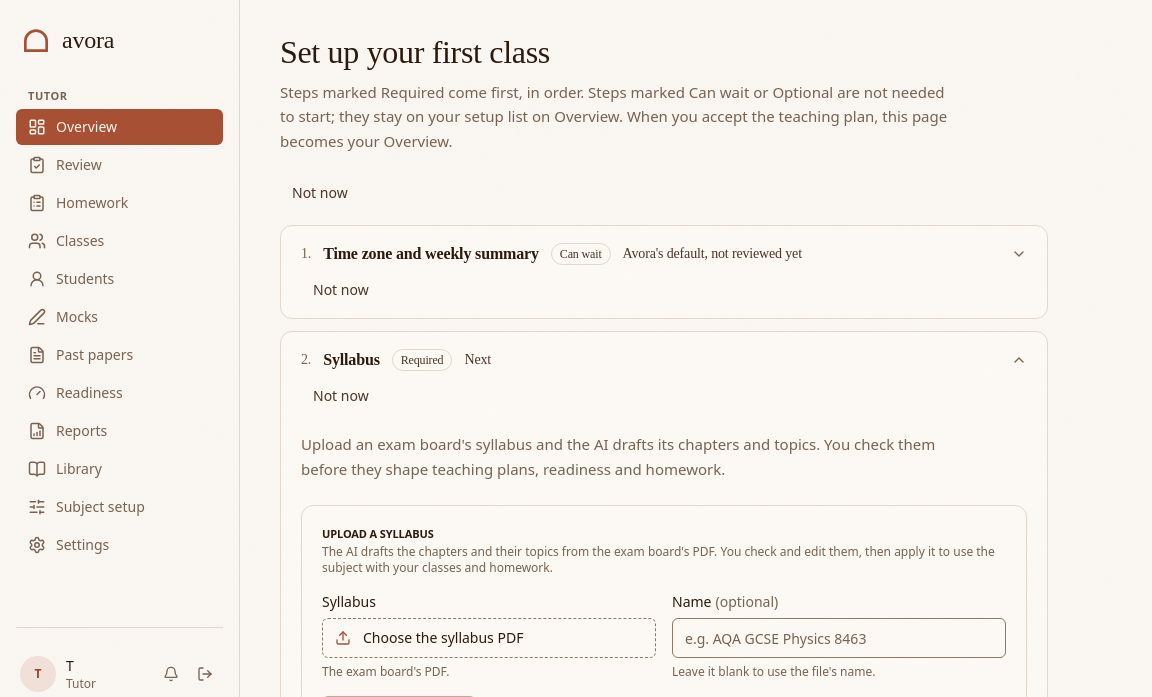
Test case: skipping a step moves the guide on to the next one
Click the button with aria-label "Not now: Syllabus": (341, 396) [301,380,381,412]
(page scrolled)
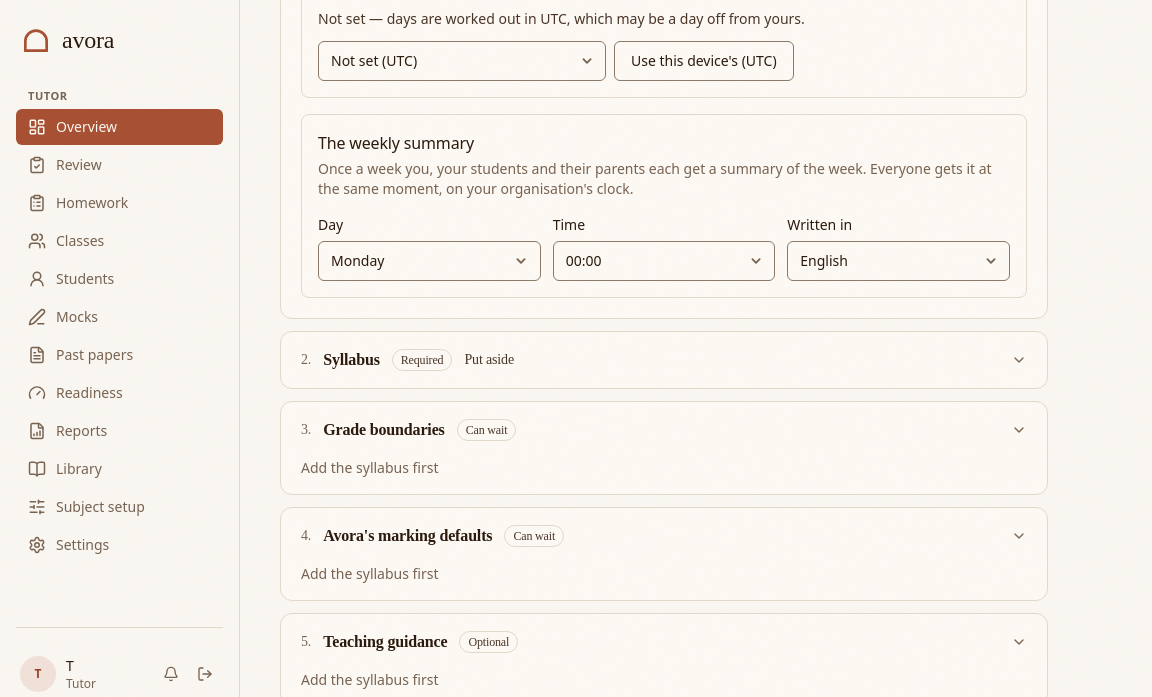
Check: the text "Put aside" is shown, box [464,350,514,370]
